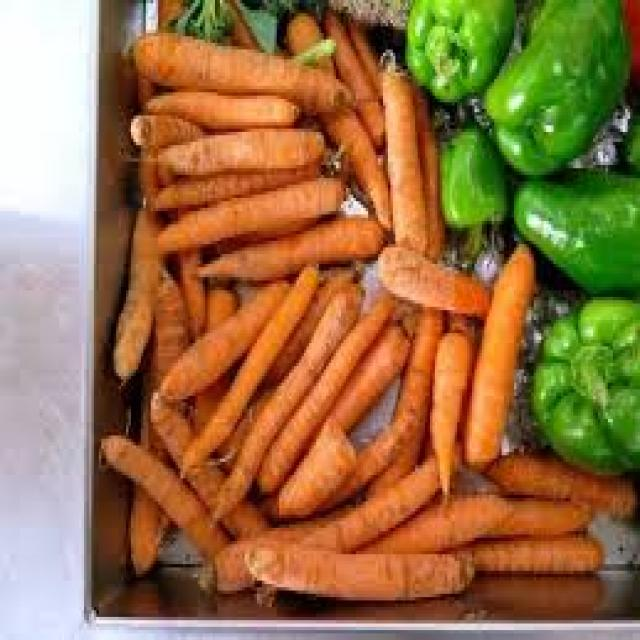organic waste: (195, 442, 462, 584), (210, 284, 358, 514), (175, 260, 319, 472), (262, 287, 395, 488), (482, 0, 625, 168), (284, 6, 388, 228), (123, 26, 351, 116), (529, 294, 637, 472), (99, 432, 235, 554), (460, 237, 531, 468), (153, 277, 287, 399), (126, 267, 180, 564), (156, 172, 344, 254), (514, 168, 638, 290), (195, 211, 386, 281), (363, 304, 435, 488), (242, 538, 470, 594), (400, 0, 514, 99), (259, 267, 361, 376), (484, 445, 638, 515), (378, 59, 425, 254), (373, 238, 489, 316), (106, 198, 156, 373), (440, 115, 504, 251), (361, 491, 504, 551), (321, 7, 381, 145), (328, 323, 408, 426), (141, 79, 296, 132), (274, 416, 351, 518), (427, 320, 472, 492), (158, 125, 321, 168), (408, 82, 442, 254), (195, 277, 228, 449), (467, 531, 600, 571), (170, 201, 208, 340), (146, 172, 321, 201), (155, 0, 190, 135), (489, 492, 591, 538), (126, 105, 205, 148), (346, 20, 380, 102), (209, 0, 259, 49), (175, 0, 228, 40)
